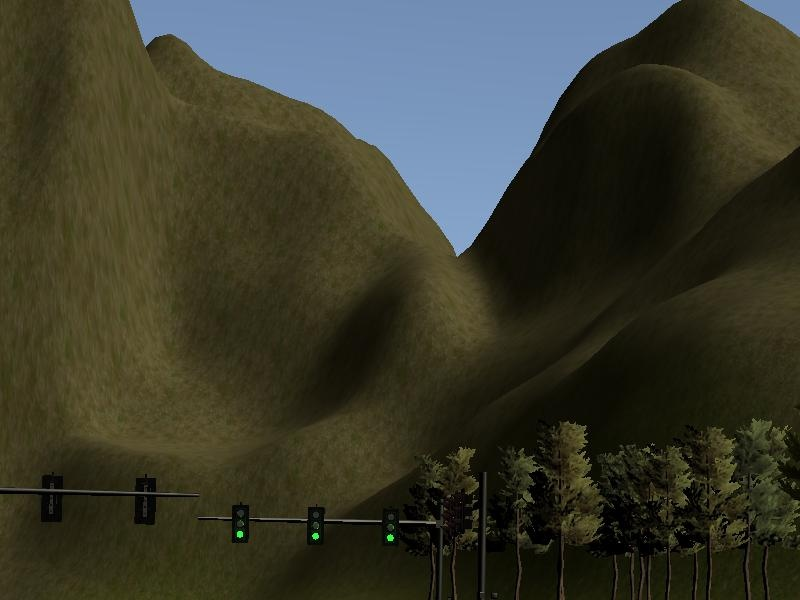green: (230, 504, 251, 544), (307, 507, 325, 544), (381, 507, 398, 546)
